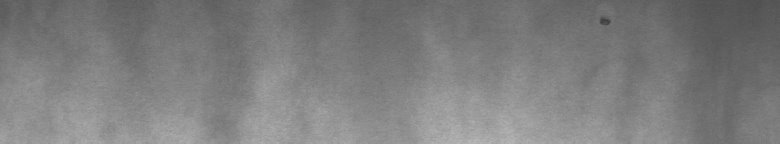fi: (596, 9, 614, 32)
